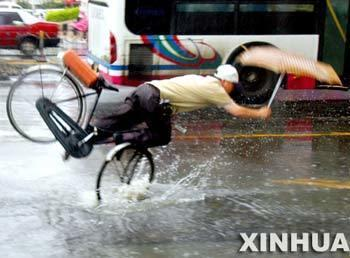fall: (75, 51, 271, 153)
